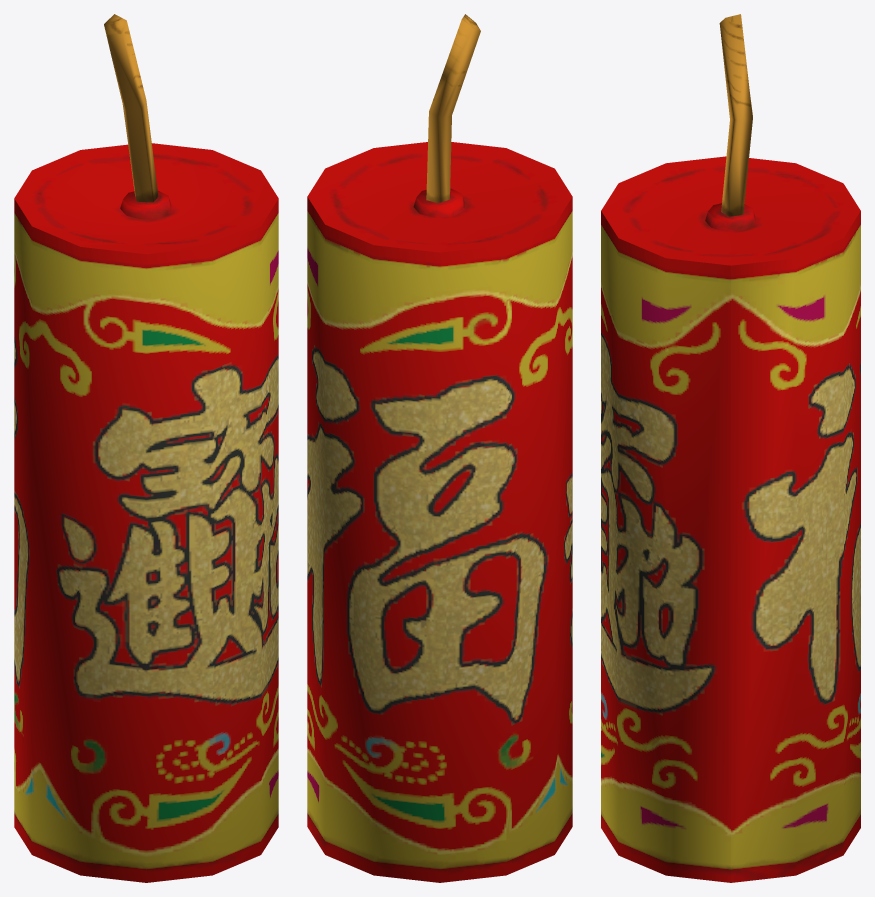
The model's file is Heavy_Throwable_sl_lod0_LOD_(000427).glb.
The picture shows the model from 3 angles, left to right: view 1: azimuth 30°, elevation 25°; view 2: azimuth 150°, elevation 25°; view 3: azimuth 270°, elevation 25°; orthographic projection. The views are drawn at different scales.
Parts seen in each view (by area): view 1: sl_lod0; view 2: sl_lod0; view 3: sl_lod0.
Part boxes in pixels (x1,y1,x2,y2): sl_lod0: (14,14,278,882); sl_lod0: (307,14,572,882); sl_lod0: (601,14,860,882).
Size of the model in its own units: 0.0668 by 0.2272 by 0.0668.
Materials: 1 (1 with a texture image).
